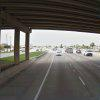Bridge: (2, 1, 96, 50)
